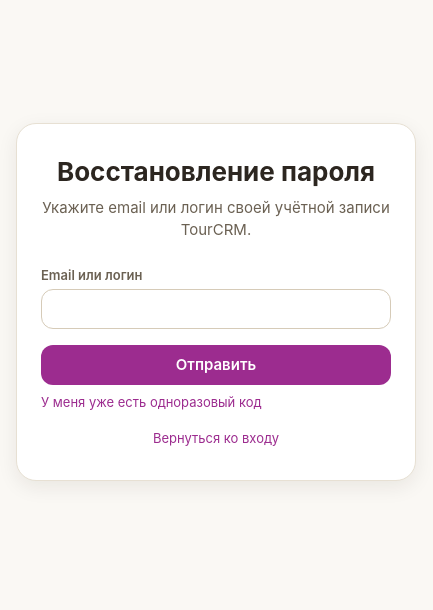
PasswordResetRequestPage — confirm/setup step (TH-0113) › switches to the confirm step and back via the toggle links
Step 1. Click the button "У меня уже есть одноразовый код" → x=151, y=403, box [41,393,262,412]
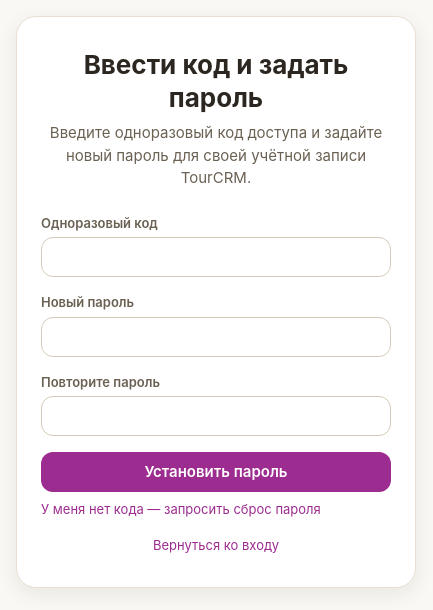
Expected: the heading "Ввести код и задать пароль" is shown, [84,49,348,112]
Step 2. Click the button "У меня нет кода — запросить сброс пароля" → x=181, y=510, box [41,500,321,520]
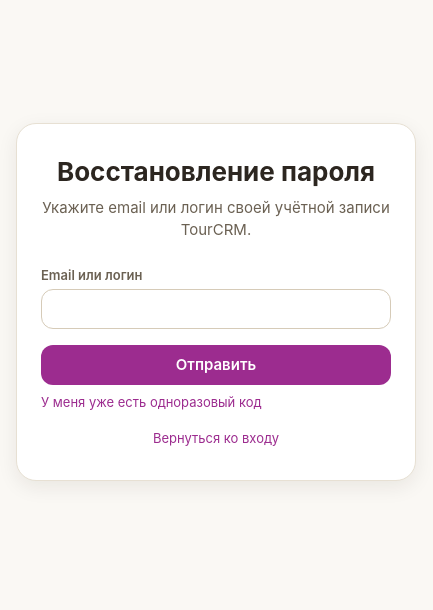
Expected: the heading "Восстановление пароля" is shown, [57,156,375,188]
